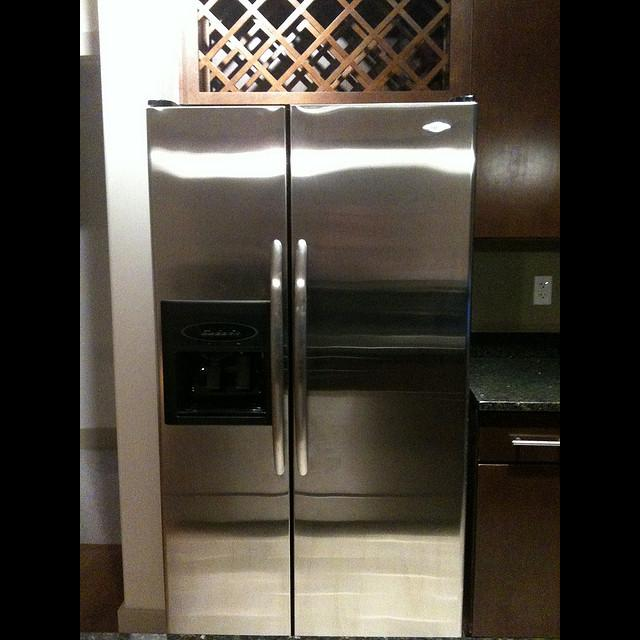Refrigerator: (149, 84, 477, 630)
